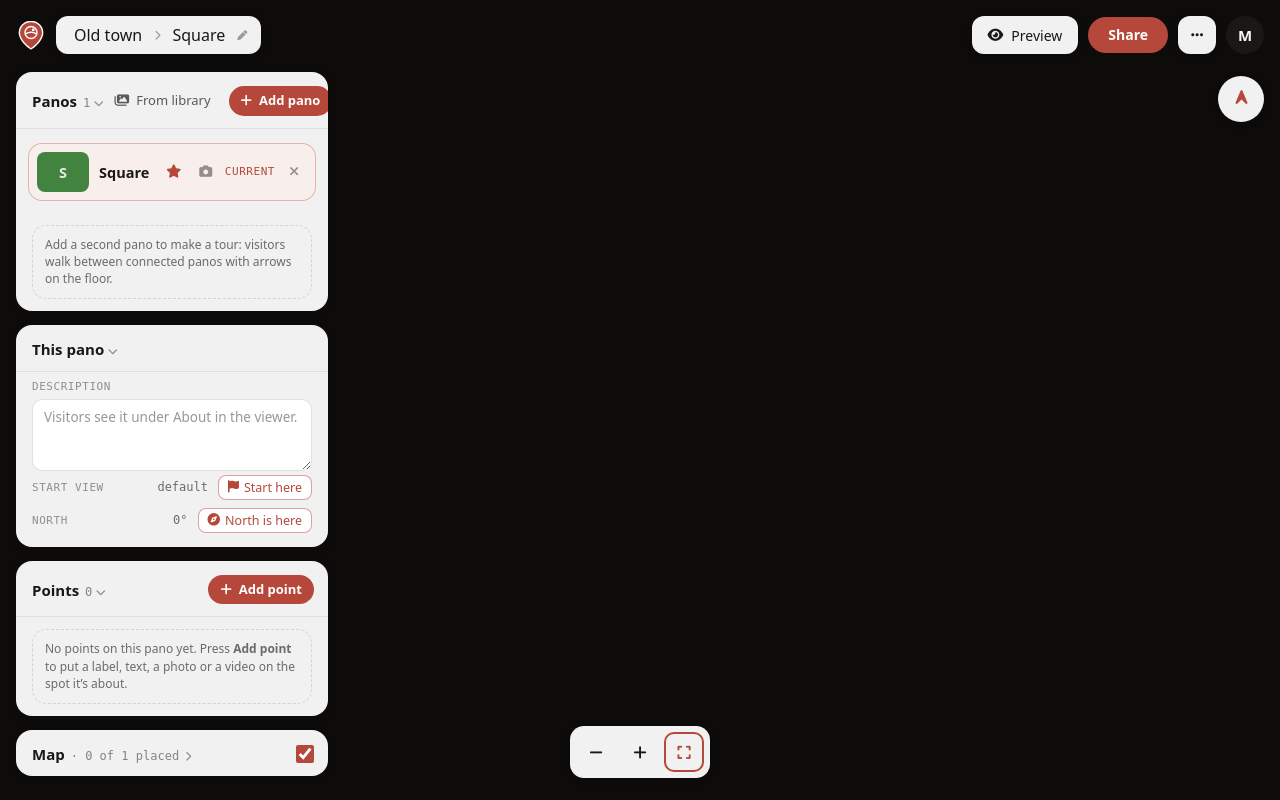
Test: editor: add from library › shows why an add failed and keeps the picker open
Click the button "From library" at (163, 101), box [103,86,223,116]
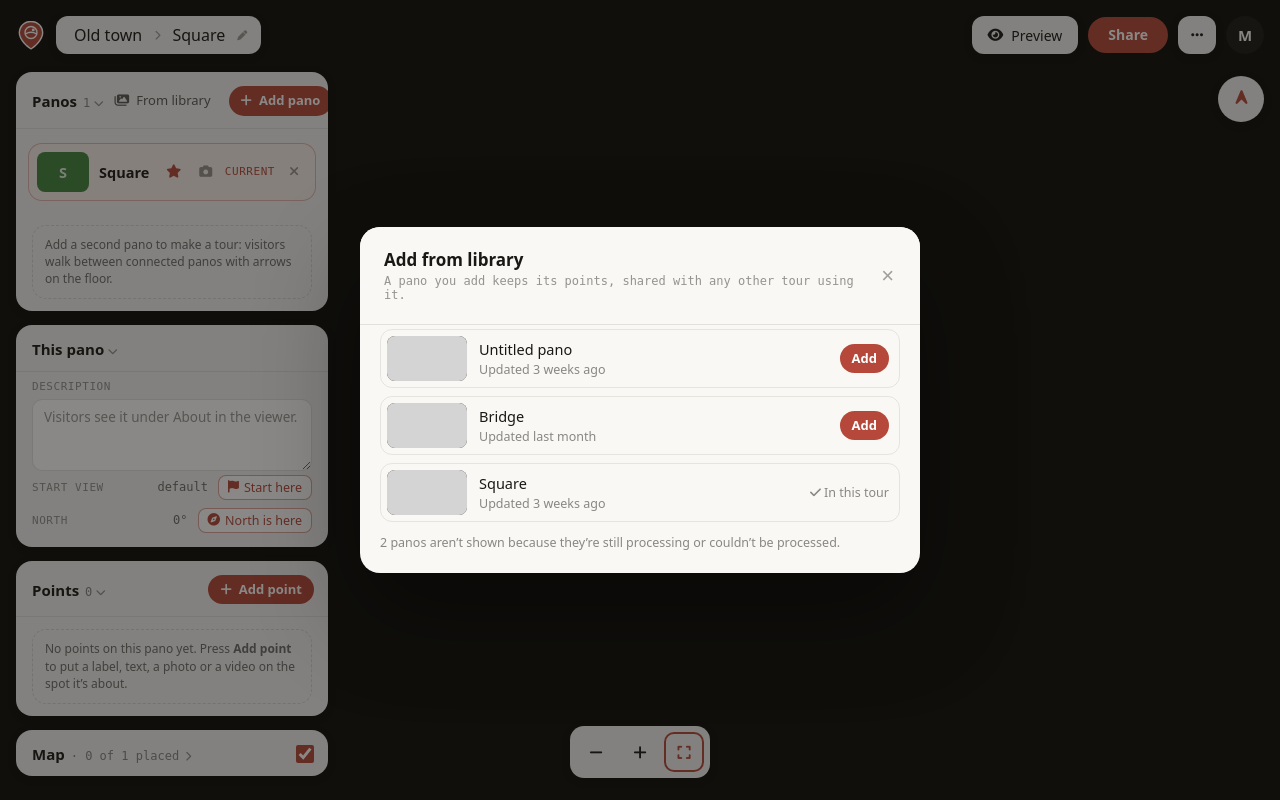
Click the button with aria-label "Add “Untitled pano” to this tour" at (864, 359), box [840,344,889,374]
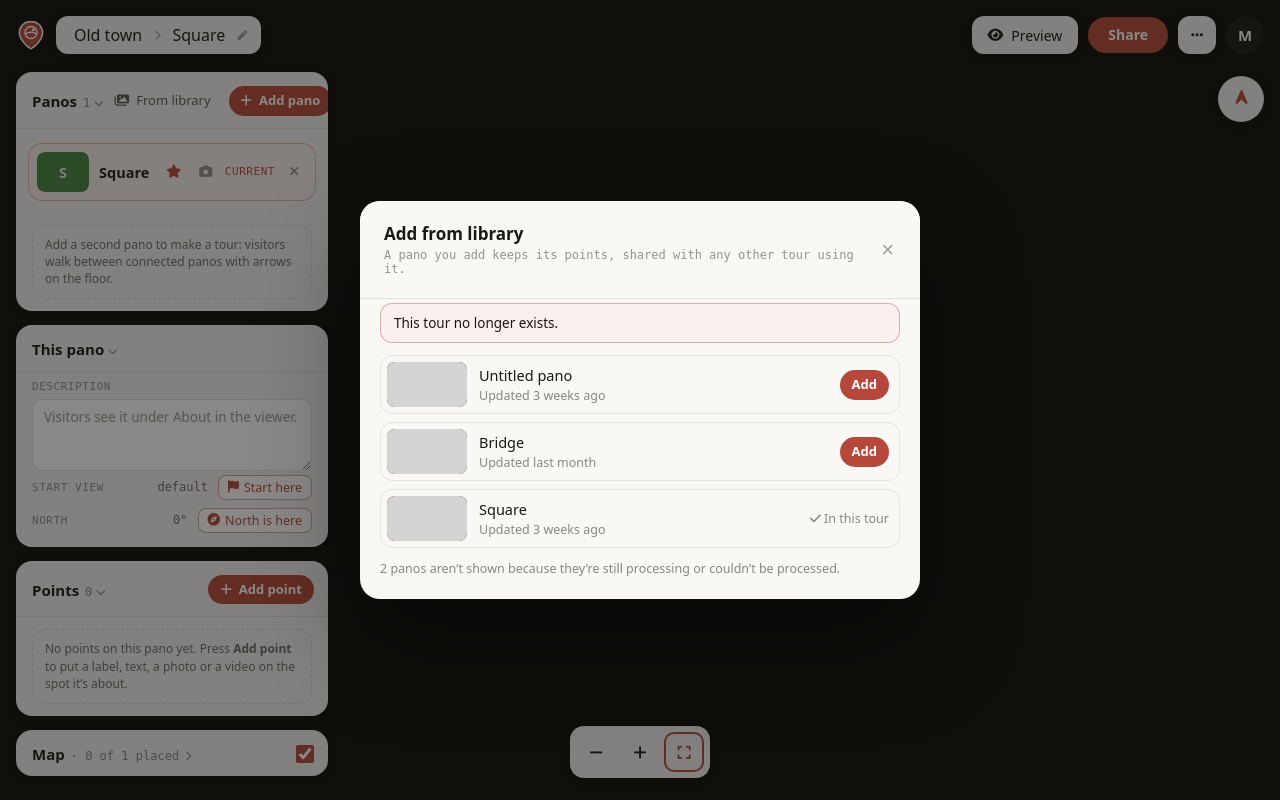
Expected: the dialog "Add from library" is shown, [360,201,920,599]
Expected: the message reads "This tour no longer exists.", [394,314,558,332]
